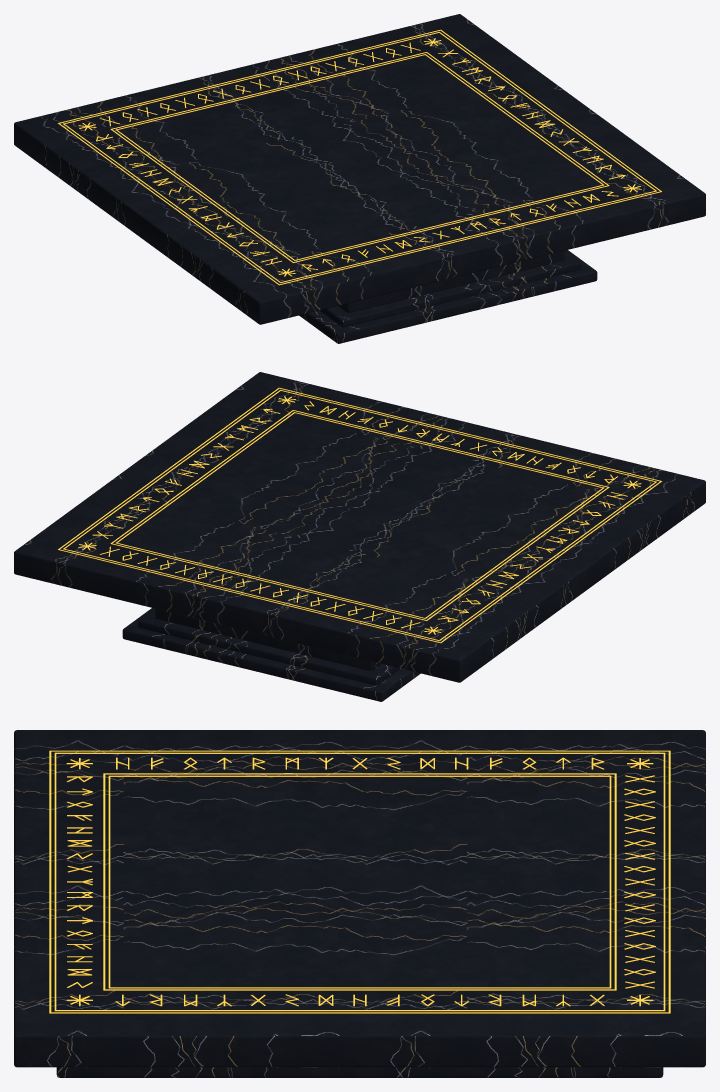
Rendered from altar.glb.
The picture shows the model from 3 angles, top to bottom: view 1: azimuth 30°, elevation 25°; view 2: azimuth 150°, elevation 25°; view 3: azimuth 270°, elevation 25°; orthographic projection. The views are drawn at different scales.
Visible parts, largest first — view 1: Opt8_Obsidian_Altar_Table, Opt8_Altar_Golden_Runes; view 2: Opt8_Obsidian_Altar_Table, Opt8_Altar_Golden_Runes; view 3: Opt8_Obsidian_Altar_Table, Opt8_Altar_Golden_Runes.
Boxes of the visible parts, x1,y1,x2,y2 form: Opt8_Obsidian_Altar_Table: (14,14,705,343); Opt8_Altar_Golden_Runes: (57,29,661,285); Opt8_Obsidian_Altar_Table: (14,372,705,701); Opt8_Altar_Golden_Runes: (58,387,662,643); Opt8_Obsidian_Altar_Table: (14,730,705,1077); Opt8_Altar_Golden_Runes: (49,750,670,1013).
Bounding box in the file's own units: 4.4 × 0.723 × 4.2.
Materials: 2 (1 with a texture image).
